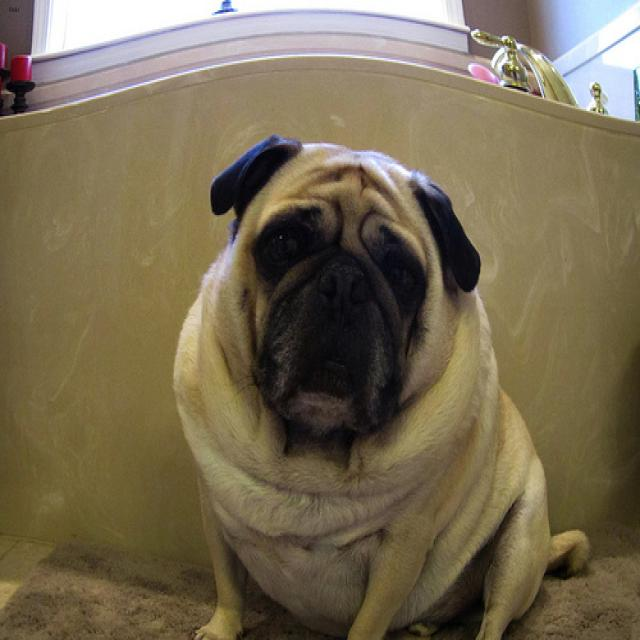dog-pug: (165, 125, 595, 637)
